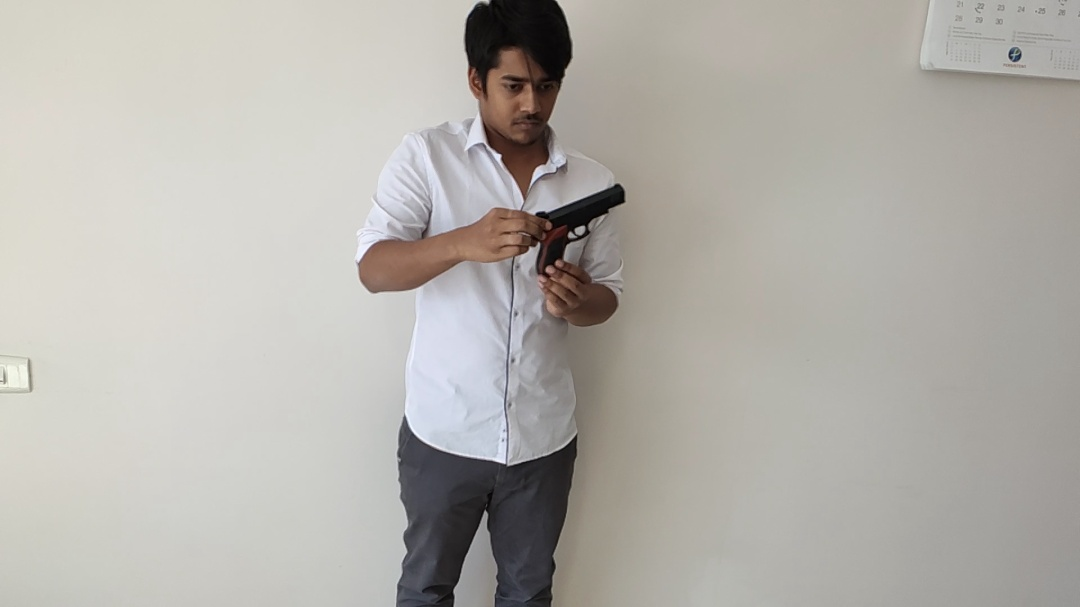gun: (270, 10, 887, 595)
